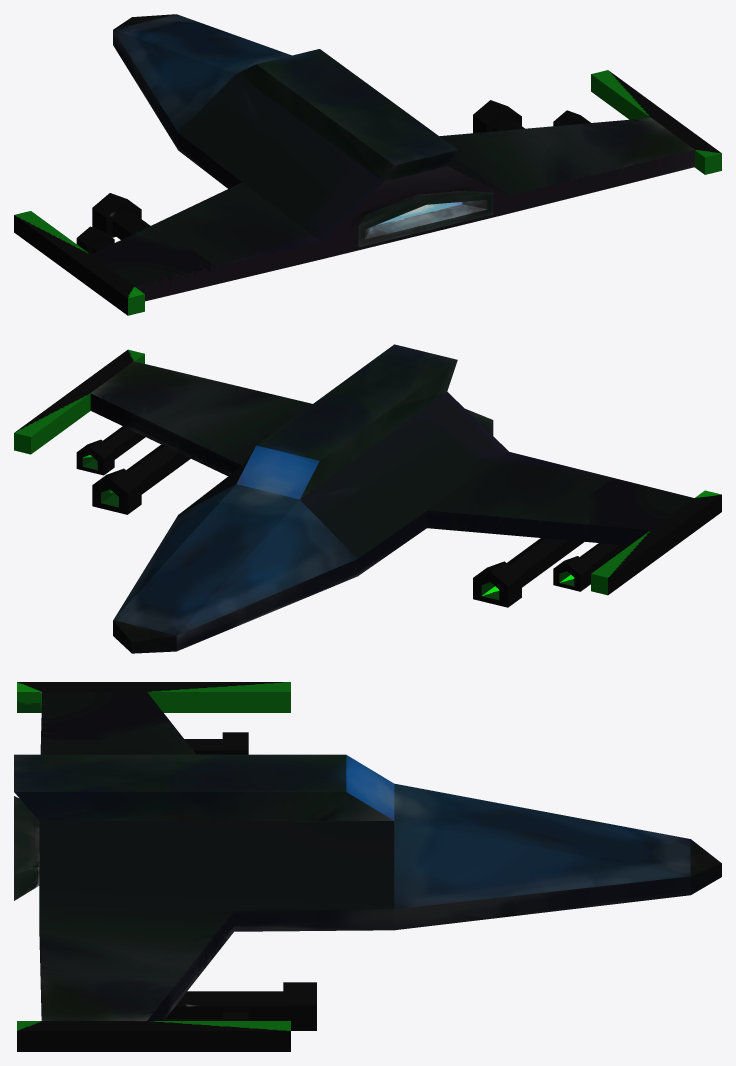
Rendered from ship3.fbx.
3 views of the same model, one above another, from view 1: azimuth 30°, elevation 25°; view 2: azimuth 150°, elevation 25°; view 3: azimuth 270°, elevation 25° (orthographic). The views are drawn at different scales.
Parts seen in each view (by area): view 1: ship; view 2: ship; view 3: ship.
Boxes of the visible parts, left/top/right/bottom form: ship: left=14, top=14, right=721, bottom=315; ship: left=14, top=344, right=721, bottom=653; ship: left=14, top=682, right=721, bottom=1051.
Size of the model in its own units: 248 by 45.01 by 213.
